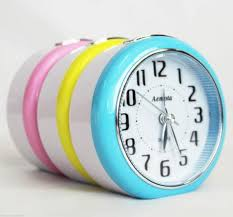alarm_clock: (3, 34, 223, 198), (12, 34, 223, 198), (12, 37, 223, 198)
